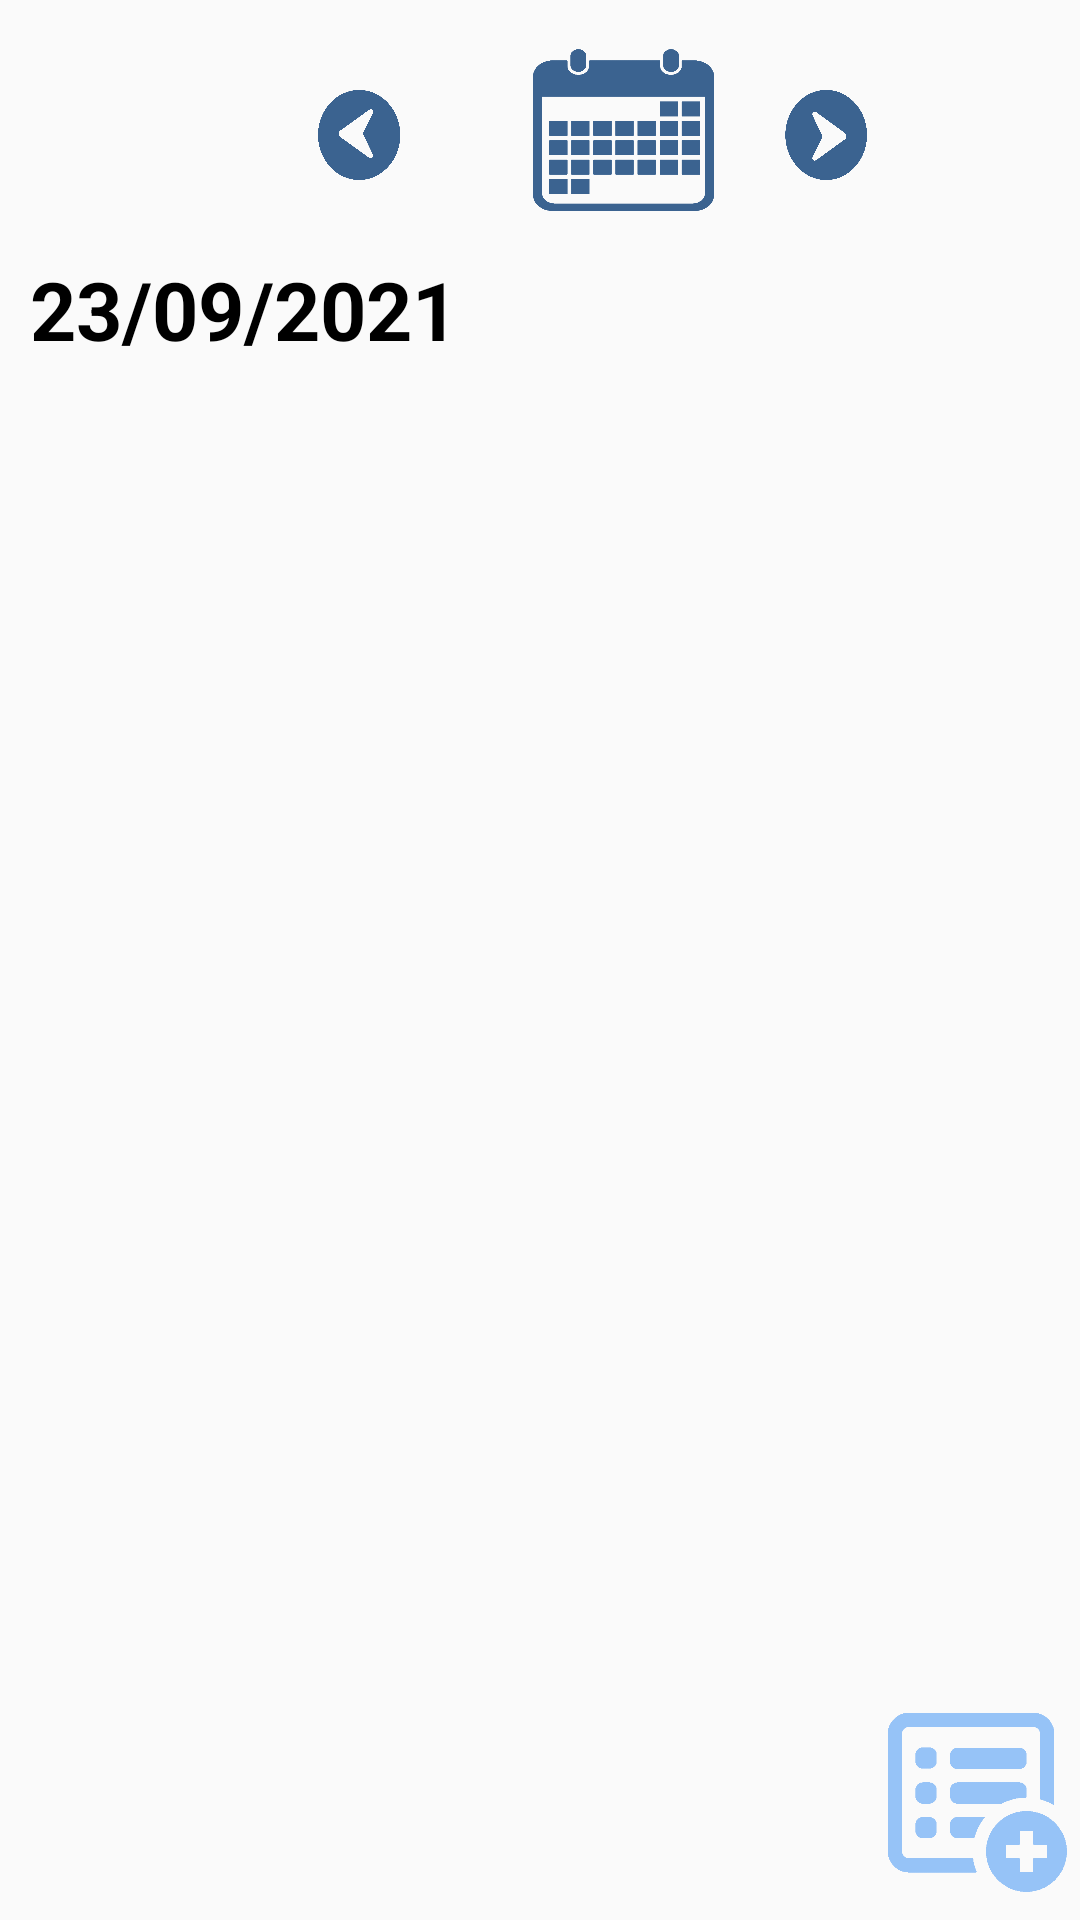

Locate icon controls on the screen. Image size 1080×1920, boxes as (x1, y1, x2, y2).
add task: (888, 1713, 1067, 1892)
arrow left: (318, 90, 400, 180)
arrow right: (785, 90, 867, 180)
choose date: (533, 49, 714, 211)
